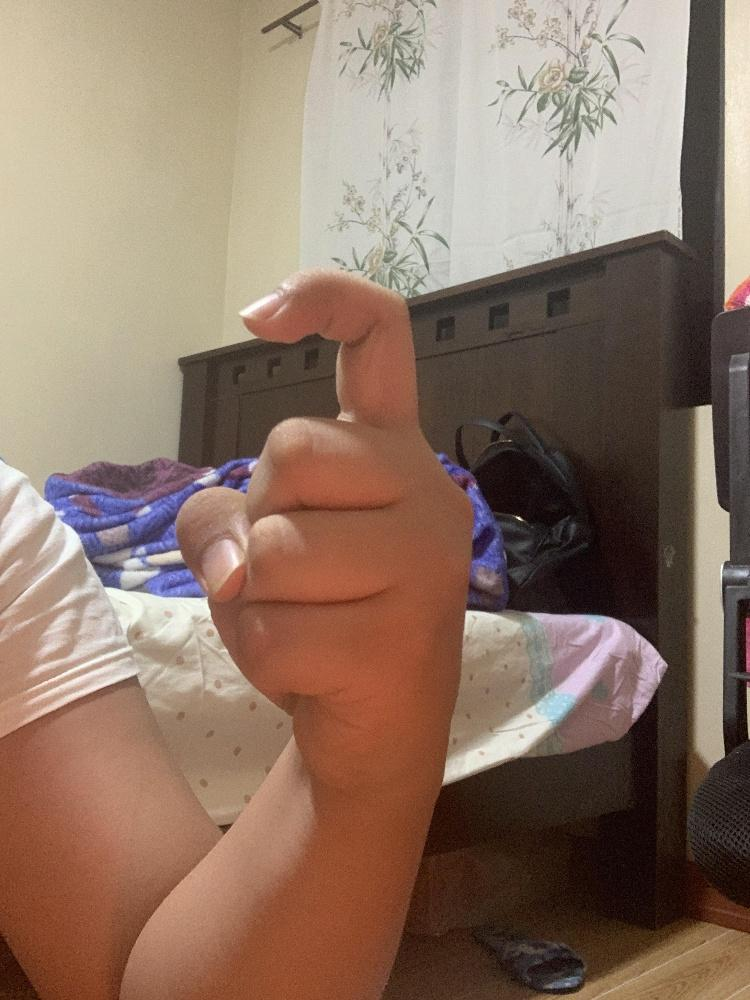x: (174, 264, 476, 774)
